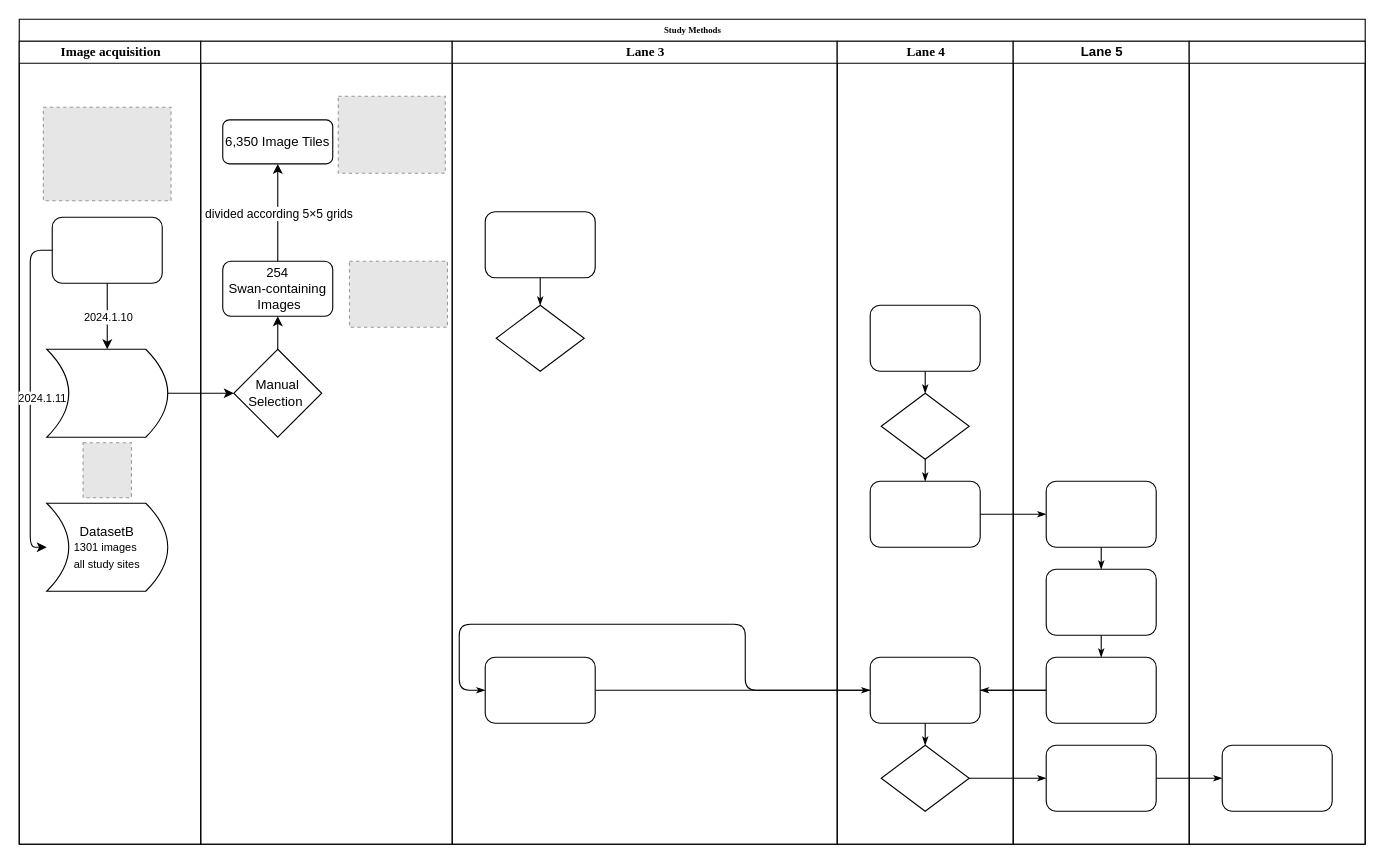
The diagram is 1385 pixels wide and 864 high, and some of its shapes have lost their labels. Grey dashed boxes stand in for pictures. Here are the shapes that lost their labels. From the top down, the box of each, then its label:
(51, 216, 162, 283): UAV Flight Tasks
(46, 348, 168, 437): DatasetA 331 images mainly from SB
(200, 40, 452, 844): Image processing
(1188, 40, 1365, 844): Lane 6
